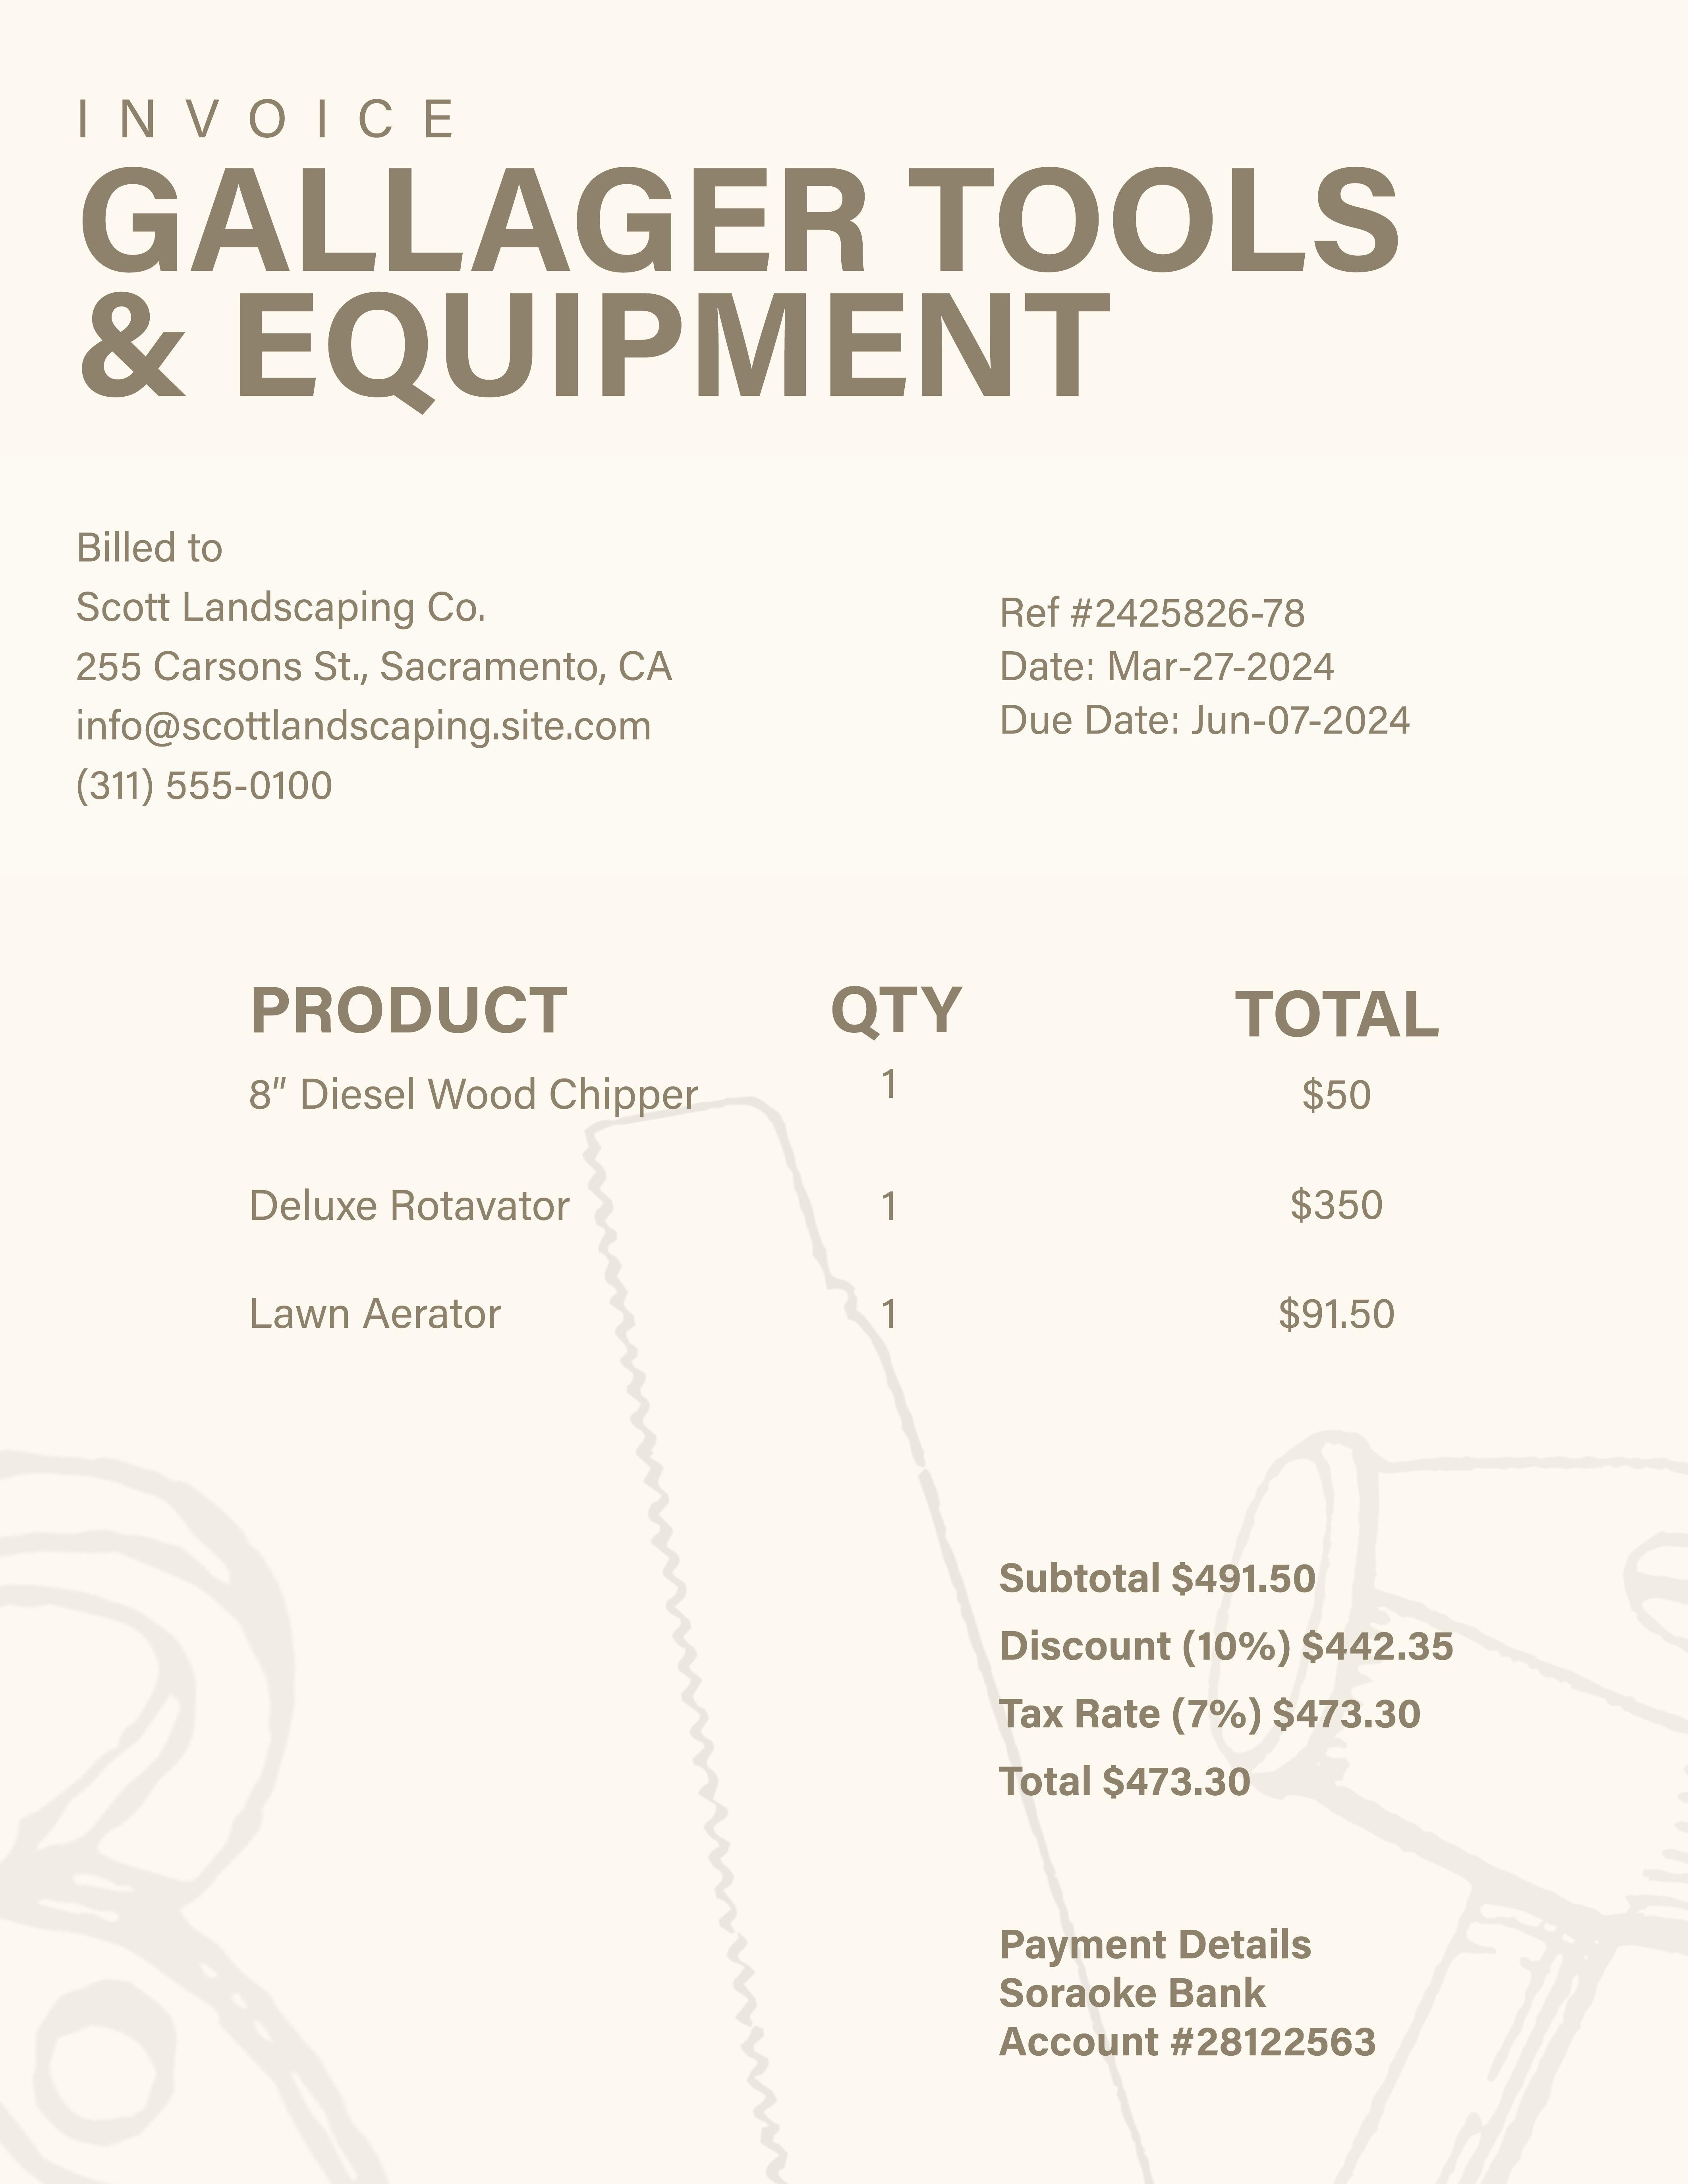ROI: (211, 963, 1469, 1364), (63, 160, 1440, 424), (50, 518, 719, 836), (983, 1535, 1476, 1815), (983, 571, 1438, 751), (973, 1911, 1409, 2070)
